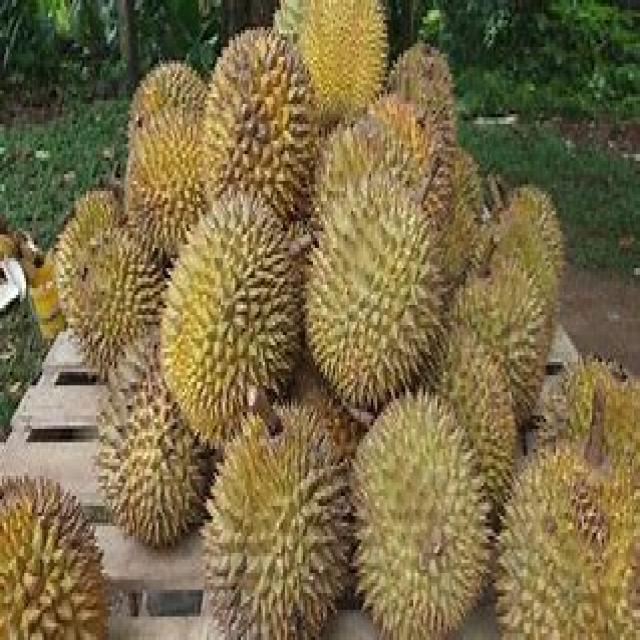mature: (204, 403, 352, 638), (98, 328, 212, 546), (204, 29, 318, 222), (125, 63, 206, 267)
